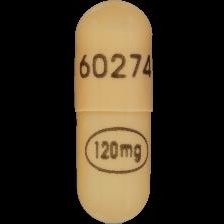0591-2880: (0, 0, 224, 224)
